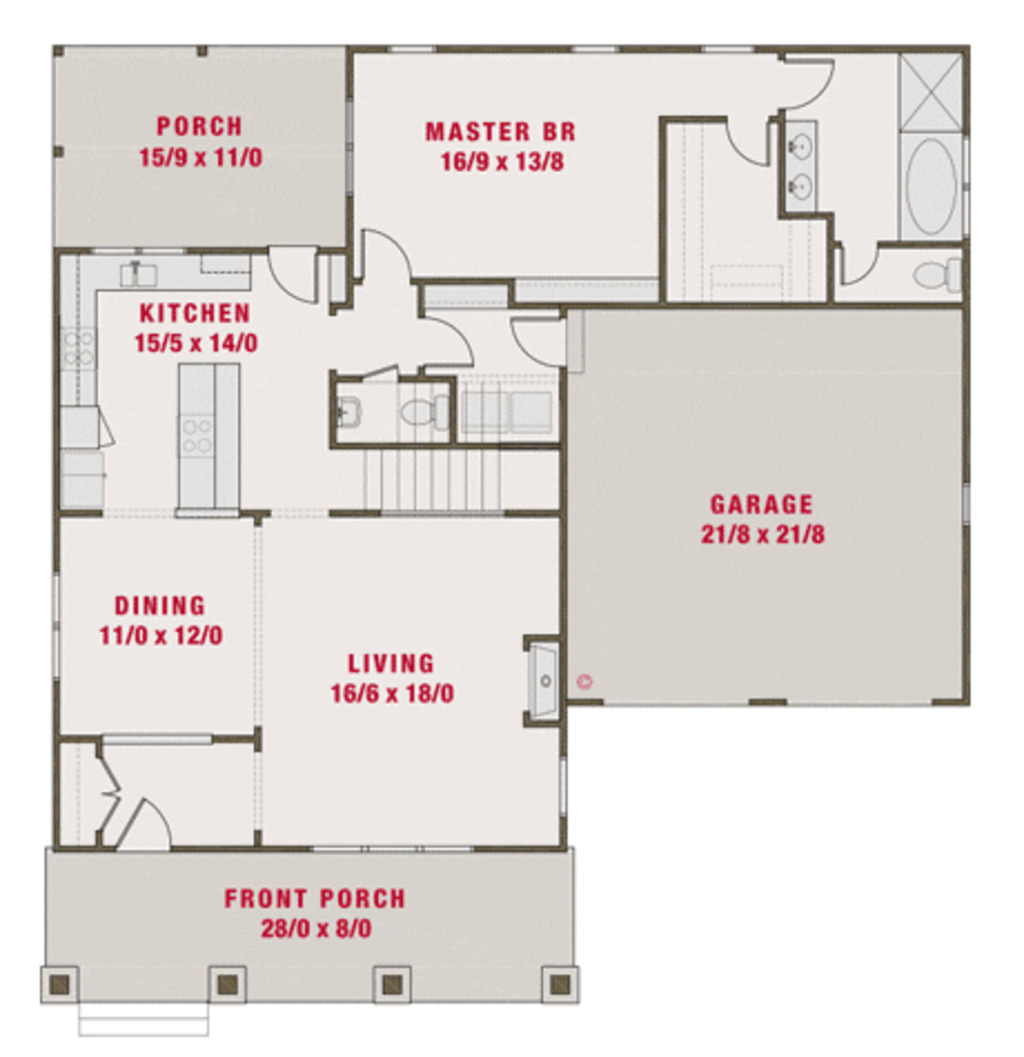door: (117, 796, 179, 850), (268, 245, 320, 309), (784, 55, 841, 110), (358, 224, 410, 284), (507, 317, 568, 368), (82, 746, 115, 830), (427, 317, 478, 369), (728, 112, 769, 163), (838, 238, 879, 283)
kitchen_bar: (163, 350, 259, 520)
large_sink: (389, 378, 458, 440), (909, 250, 963, 301)
small_sink: (779, 119, 815, 163), (783, 171, 815, 215), (337, 397, 366, 437)
stairs: (328, 446, 504, 517)
tub: (902, 132, 966, 242)
window: (307, 838, 469, 848), (53, 568, 64, 671), (102, 737, 210, 745)
